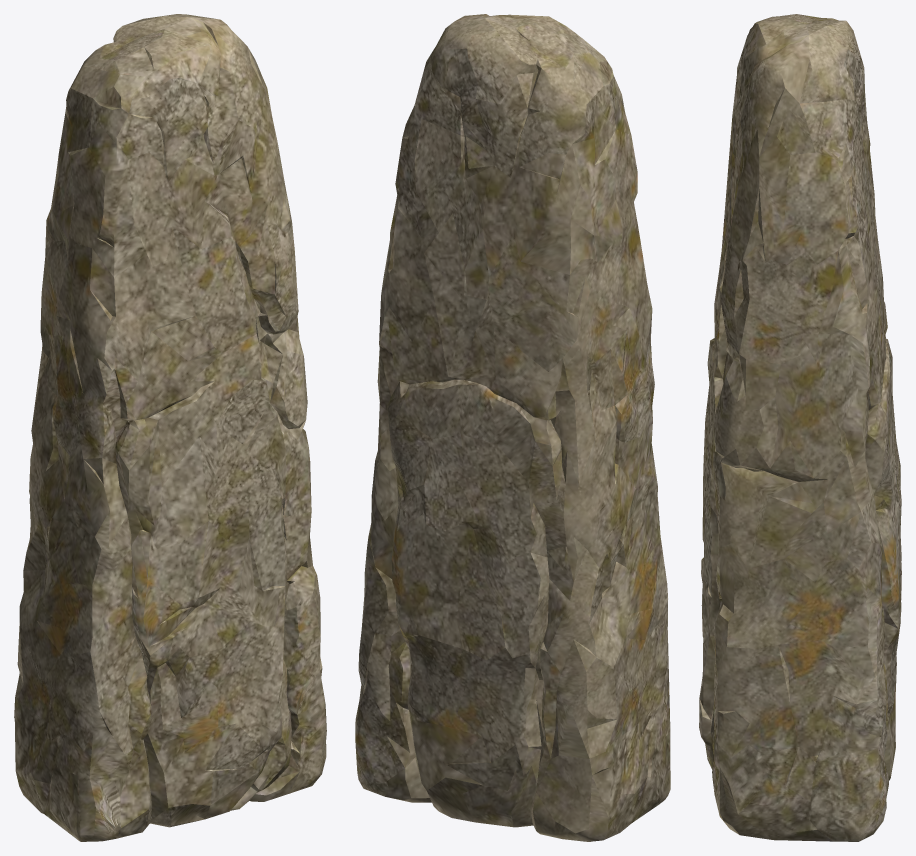
Rendered from poi_menhir.glb.
3 renders of one model, left to right at view 1: azimuth 30°, elevation 25°; view 2: azimuth 150°, elevation 25°; view 3: azimuth 270°, elevation 25°, orthographic.
Parts seen in each view (by area): view 1: poi_menhir; view 2: poi_menhir; view 3: poi_menhir.
Boxes of the visible parts, x1,y1,x2,y2 form: poi_menhir: (14,14,326,841); poi_menhir: (355,14,670,841); poi_menhir: (699,14,901,841).
Bounding box in the file's own units: 1.18 × 3.4 × 0.8193.
Materials: 1 (1 with a texture image).
